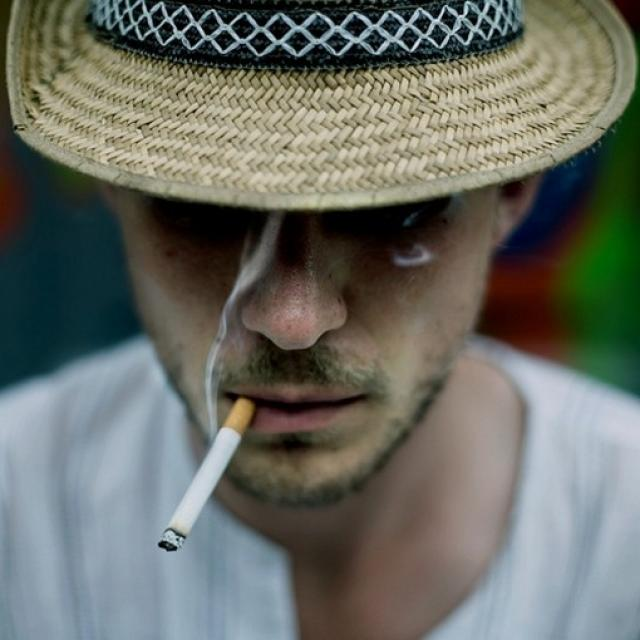smoking: (127, 378, 279, 568)
